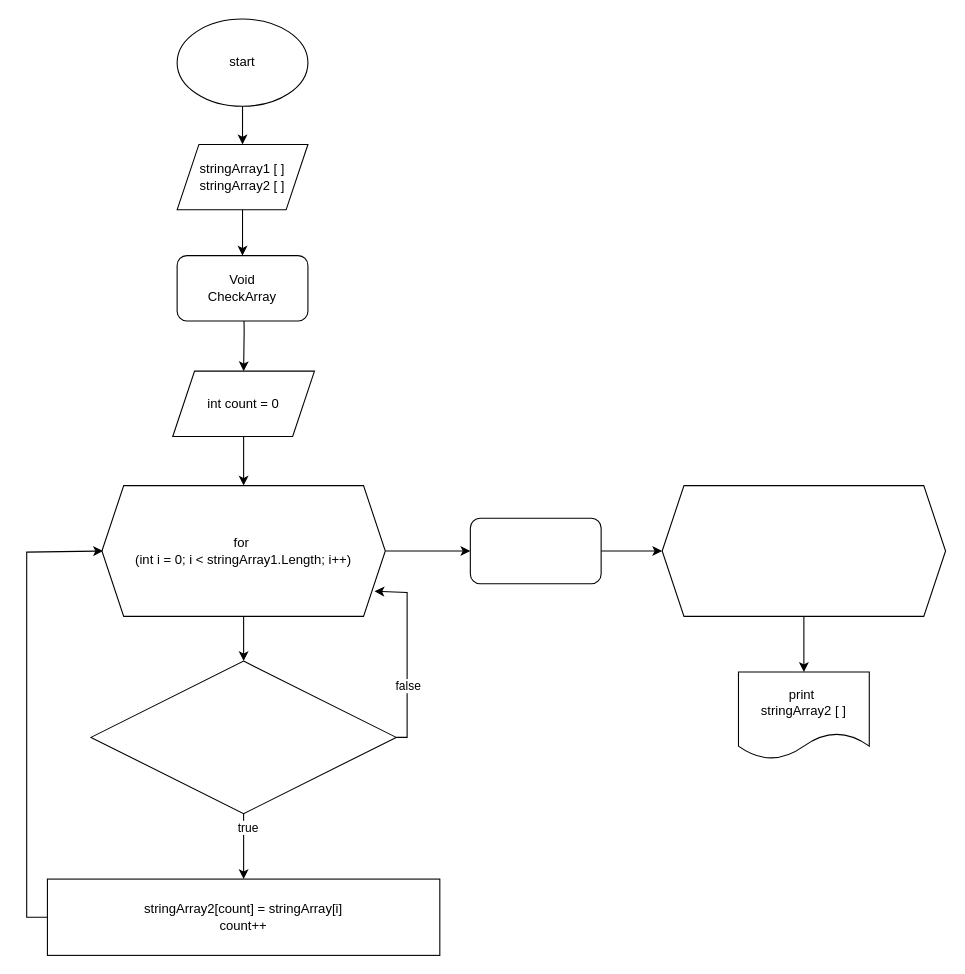
This 965x974 diagram has some shape labels left out. Each missing label, with the centre of its shape:
"for (int i = 0; i < array.Length; i++)" belongs at pixel 803 550.
"if (stringArray1[i].Length <= 3)" belongs at pixel 243 737.
"Void printArray" belongs at pixel 535 550.
